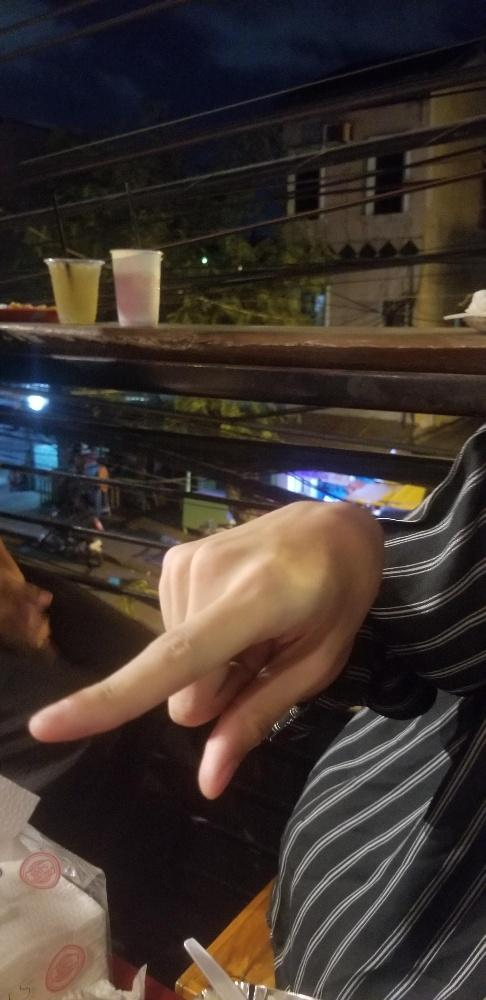z: (27, 498, 383, 802)
